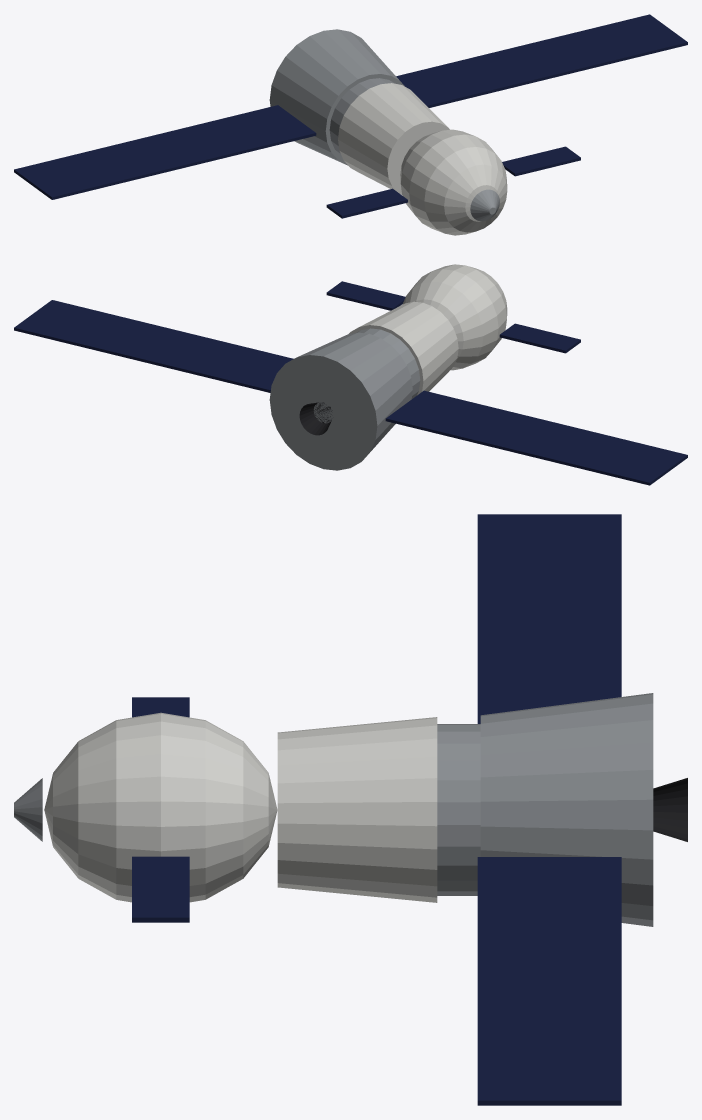
Rendered from shenzhou.glb.
The picture shows the model from 3 angles, top to bottom: view 1: azimuth 30°, elevation 25°; view 2: azimuth 150°, elevation 25°; view 3: azimuth 270°, elevation 25°; orthographic projection. The views are drawn at different scales.
Size of the model in its own units: 19.26 by 3.26 by 9.36.
